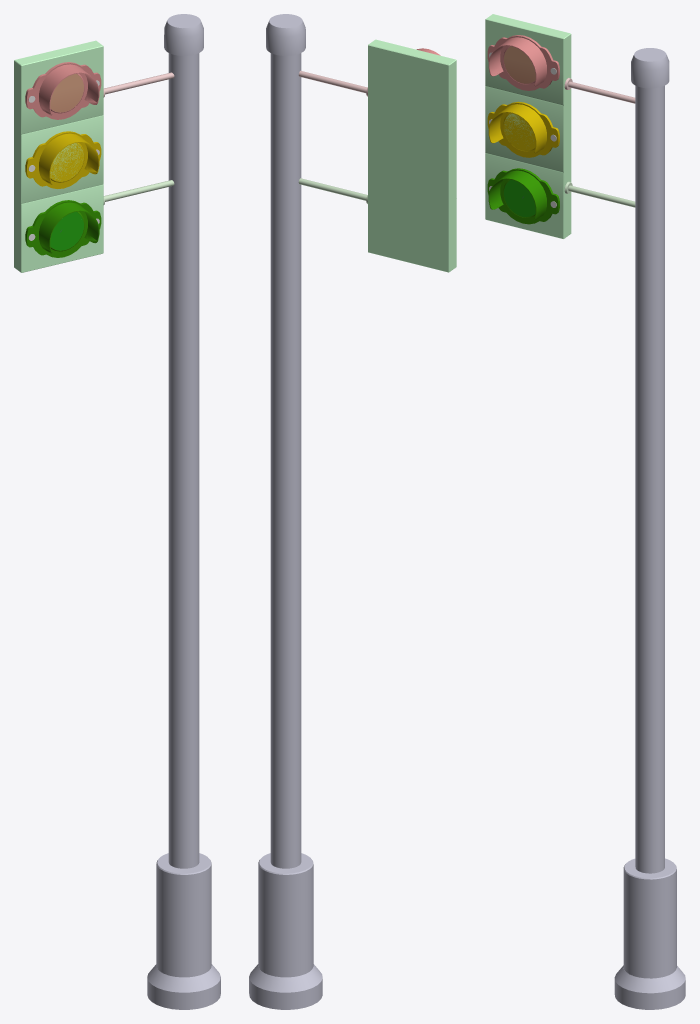
Rendered from traffic_light.glb.
3 views of the same model, side by side, from view 1: azimuth 30°, elevation 25°; view 2: azimuth 150°, elevation 25°; view 3: azimuth 330°, elevation 25° (orthographic). The views are drawn at different scales.
Visible parts, largest first — view 1: tab, light-tab, light-red, light-green, light-yellow, holder-up, holder-down; view 2: tab, light-tab, holder-up, holder-down; view 3: tab, light-tab, light-yellow, light-red, light-green, holder-down, holder-up.
Part boxes in pixels (x1,y1,x2,y2): tab: (147,14,220,1009); light-tab: (14,40,103,272); light-red: (25,62,101,119); light-green: (25,200,101,257); light-yellow: (25,131,101,188); holder-up: (103,72,174,97); holder-down: (103,180,174,204); tab: (249,14,322,1009); light-tab: (368,39,456,272); holder-up: (298,70,367,96); holder-down: (298,178,367,203); tab: (614,48,685,1009); light-tab: (485,14,571,238); light-yellow: (487,101,559,157); light-red: (487,35,559,90); light-green: (487,168,559,224); holder-down: (564,181,635,207); holder-up: (564,78,635,103).
Bounding box in the file's own units: 2.51 × 11.75 × 0.8016.
